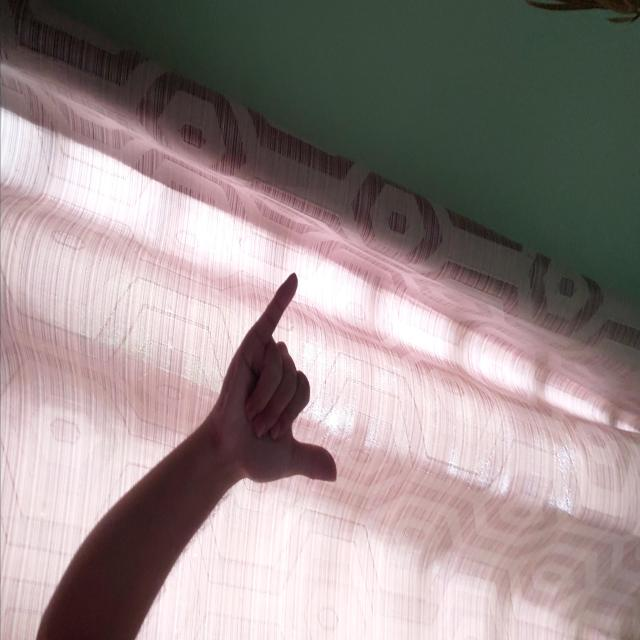Y: (271, 302, 486, 422)
